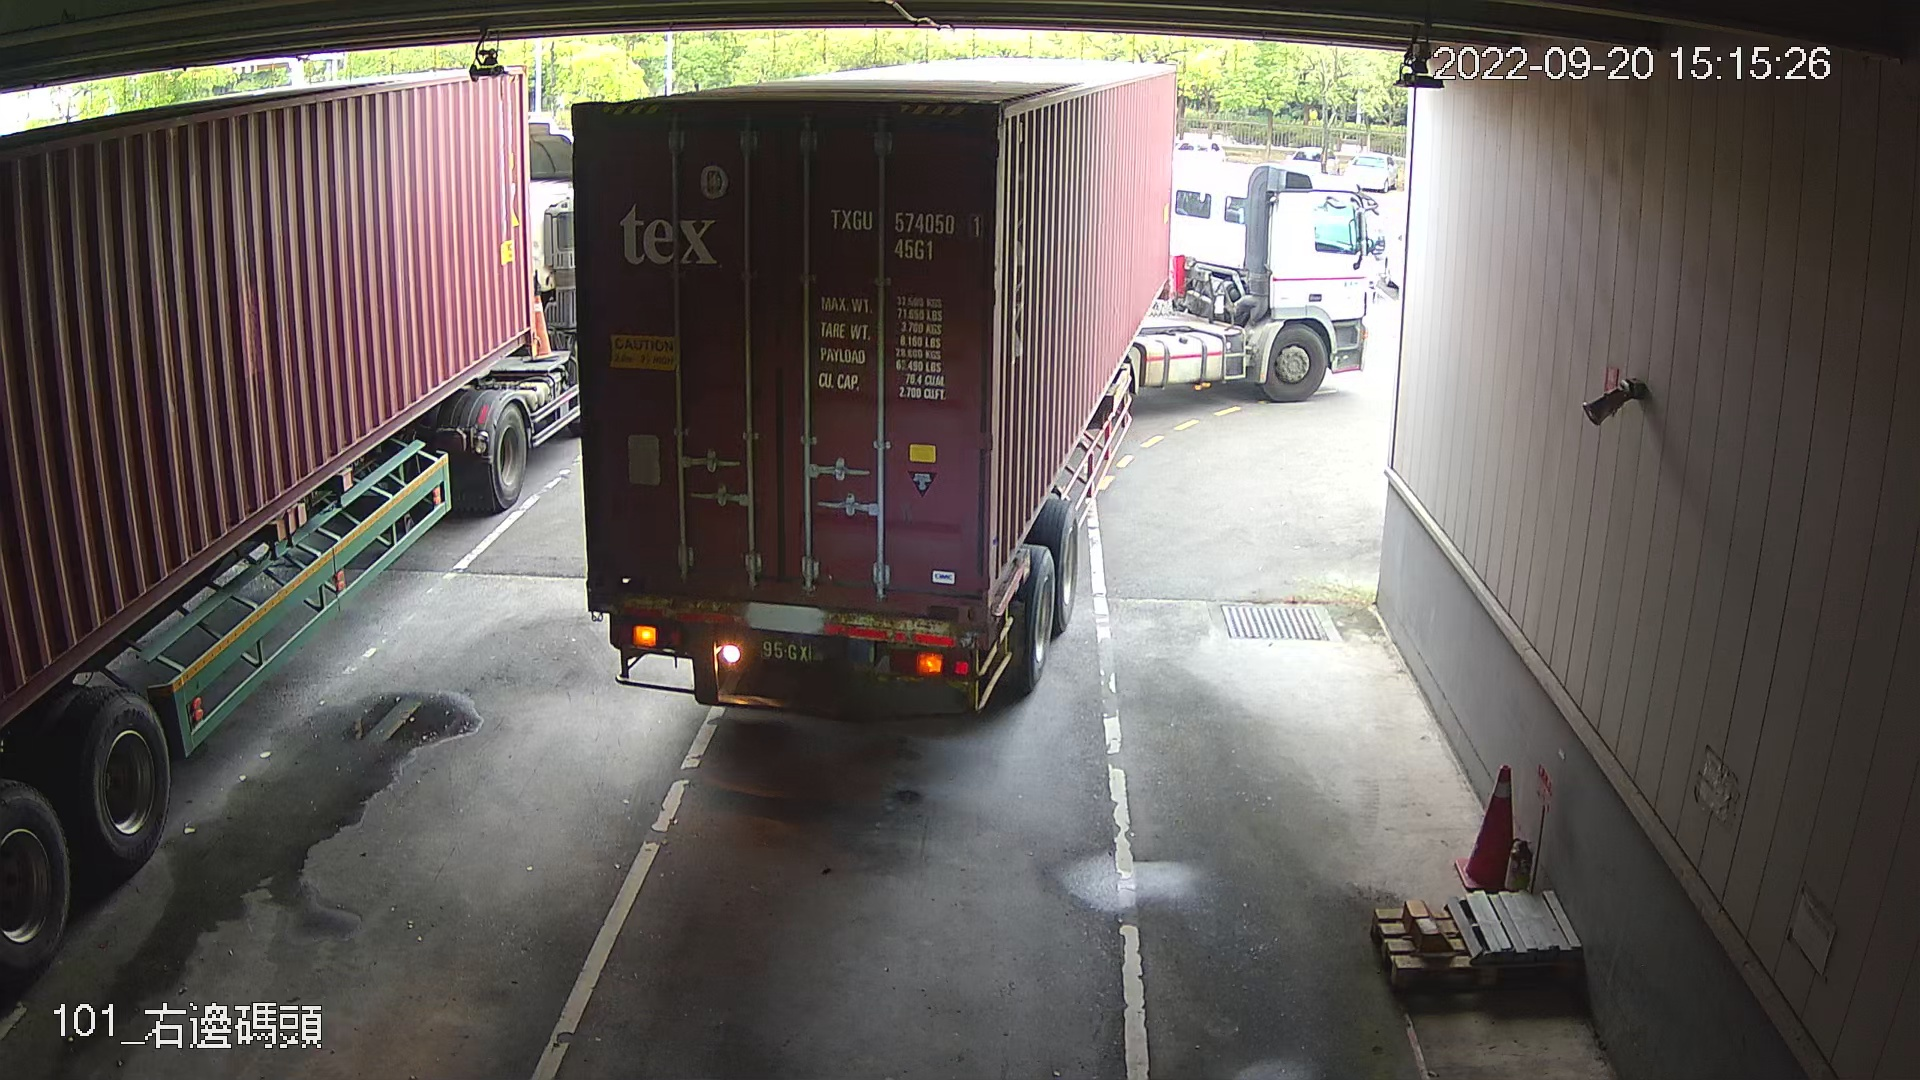container: (818, 195, 989, 266)
